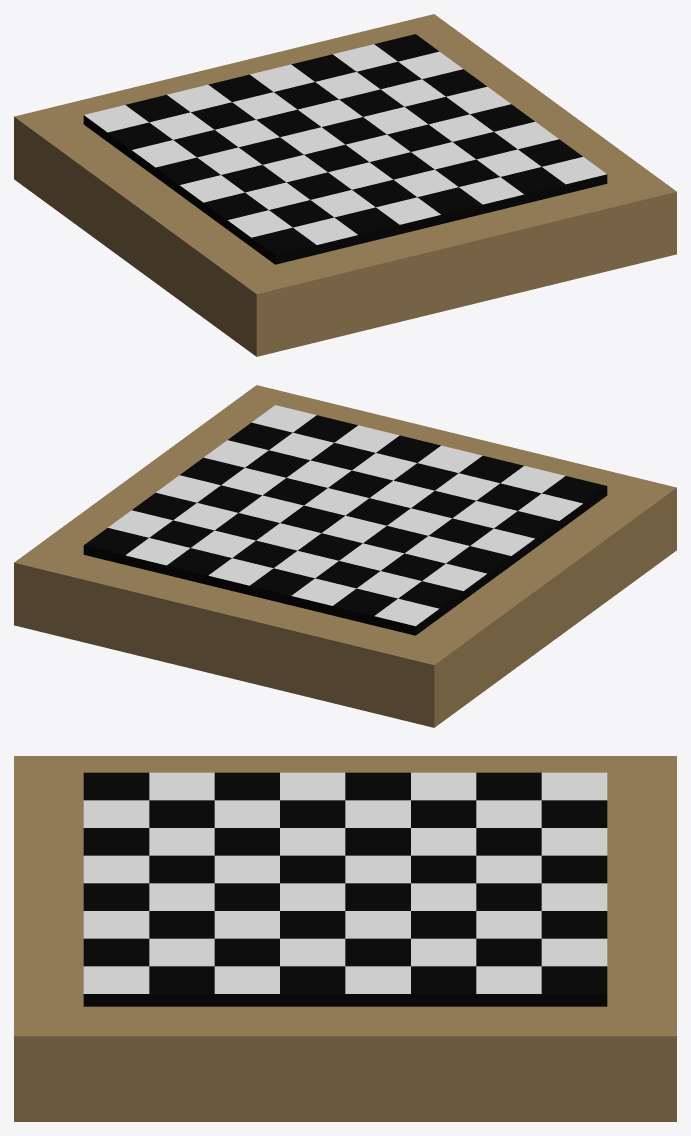
Rendered from Checkerboard.fbx.
3 renders of one model, top to bottom at view 1: azimuth 30°, elevation 25°; view 2: azimuth 150°, elevation 25°; view 3: azimuth 270°, elevation 25°, orthographic. The views are drawn at different scales.
Visible parts, largest first — view 1: Checkerboard; view 2: Checkerboard; view 3: Checkerboard.
Part boxes in pixels (x1,y1,x2,y2): Checkerboard: (14, 14, 676, 356); Checkerboard: (14, 385, 676, 727); Checkerboard: (14, 756, 676, 1121).
Bounding box in the file's own units: 1.71 × 0.2807 × 1.71.
